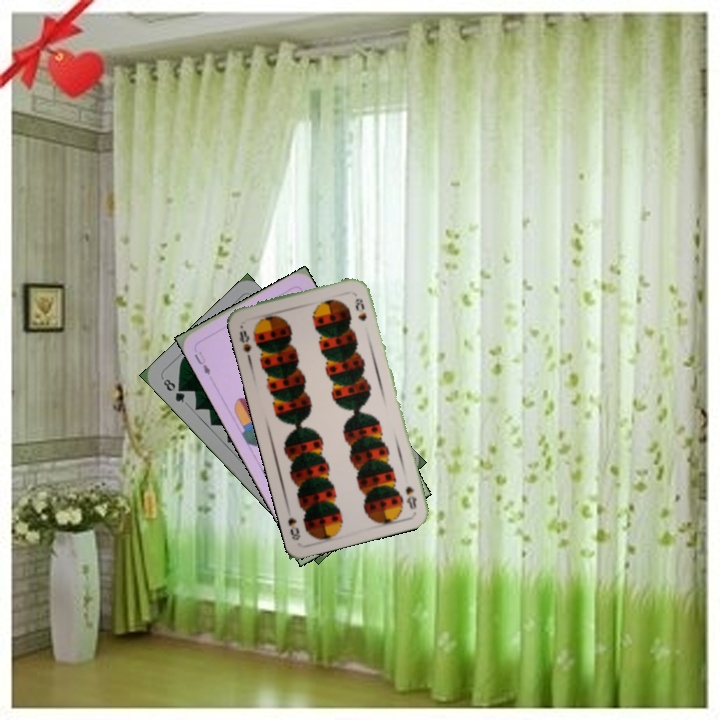EU: (190, 347, 213, 378)
G8: (159, 375, 188, 405)
S8: (235, 326, 254, 361), (401, 482, 419, 512)
